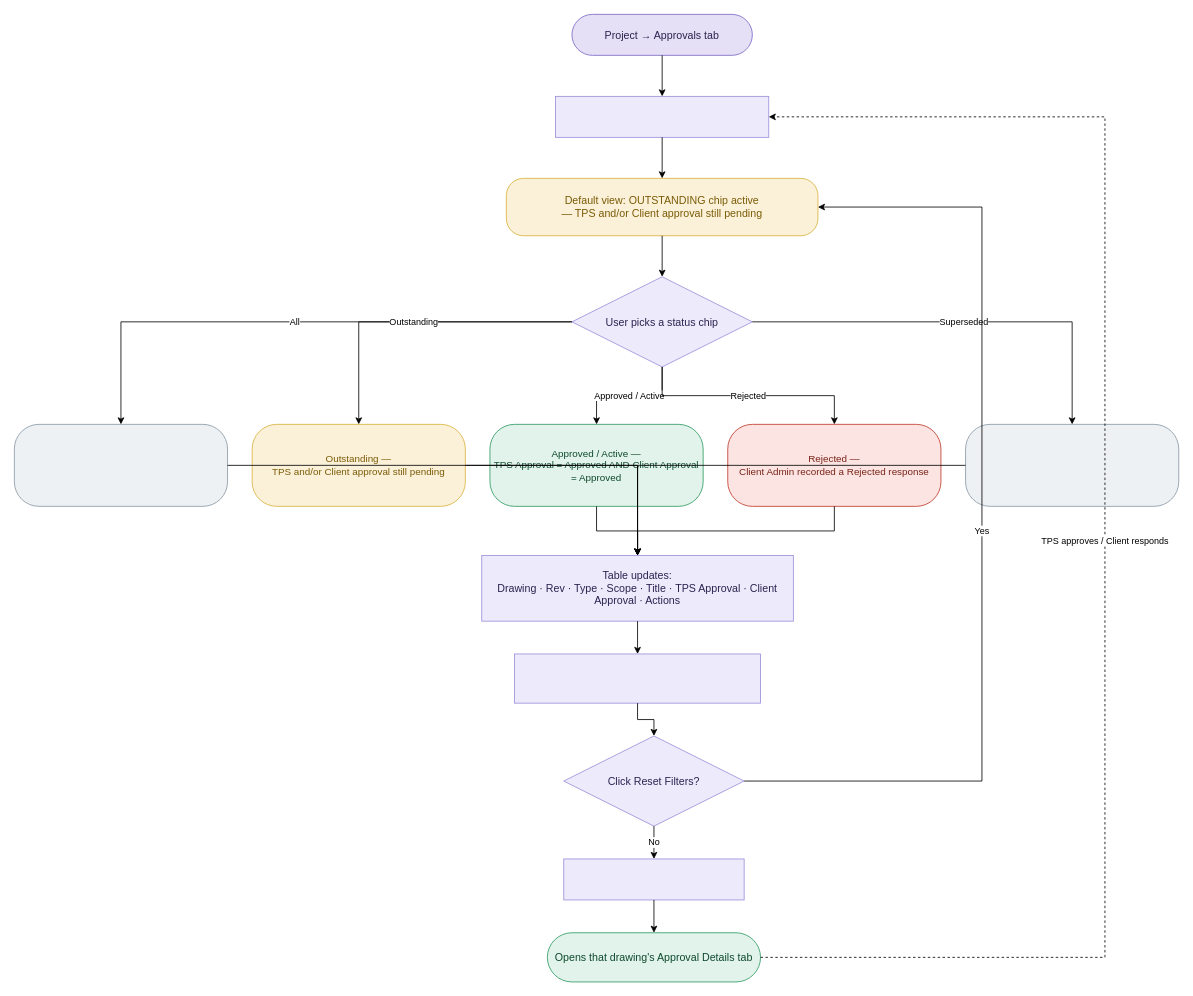
The diagram is 1193 pixels wide and 996 high, and some of its shapes have lost their labels. Here are the shapes that lost their labels. From the top down, the centre of each, then its label:
At pixel 662 116: "Approval Register loads".
At pixel 121 465: "All — Every drawing: Outstanding + Approved/Active + Rejected + Superseded".
At pixel 1072 465: "Superseded — Revision no longer active: inactive or expired".
At pixel 637 678: "Optional: narrow further with per-column filters".
At pixel 653 879: "Click REVIEW on a row".
